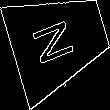N_E: (33, 14, 85, 68)
